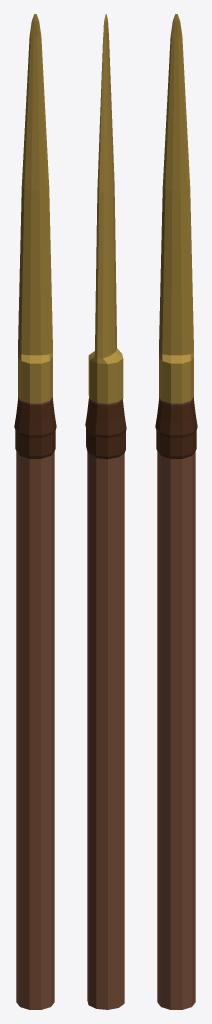
The model's file is Dart.fbx.
3 views of the same model, side by side, from view 1: azimuth 90°, elevation 25°; view 2: azimuth 150°, elevation 25°; view 3: azimuth 270°, elevation 25° (orthographic).
Parts seen in each view (by area): view 1: Dart; view 2: Dart; view 3: Dart.
Boxes of the visible parts, <box> form: Dart: <box>14,14,56,1009</box>; Dart: <box>85,14,126,1009</box>; Dart: <box>155,14,197,1009</box>.
Size of the model in its own units: 53.64 by 1453 by 56.41.
